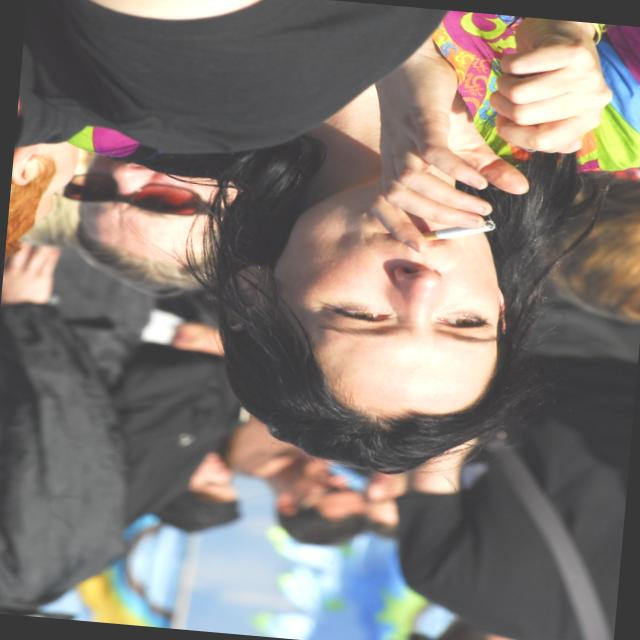cigarette: (423, 213, 516, 254)
